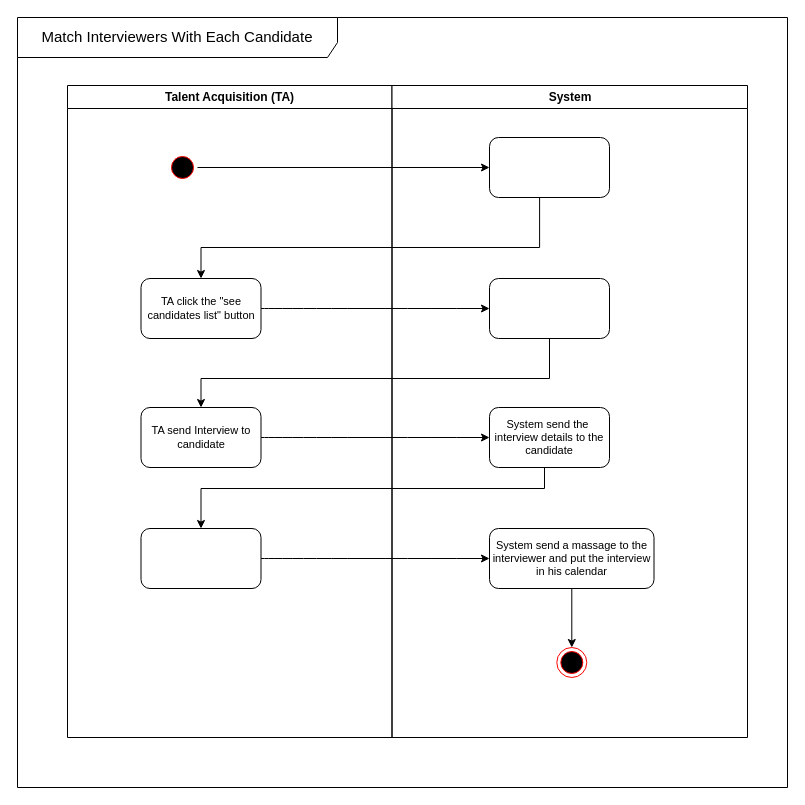
The diagram is 805 pixels wide and 805 high, and some of its shapes have lost their labels. Here are the shapes that lost their labels. From the top down, the box of each, then its label:
(488, 136, 610, 198): Start Session
(488, 278, 610, 338): System display the list
(140, 528, 261, 588): TA assign interviewer to to do the interview
